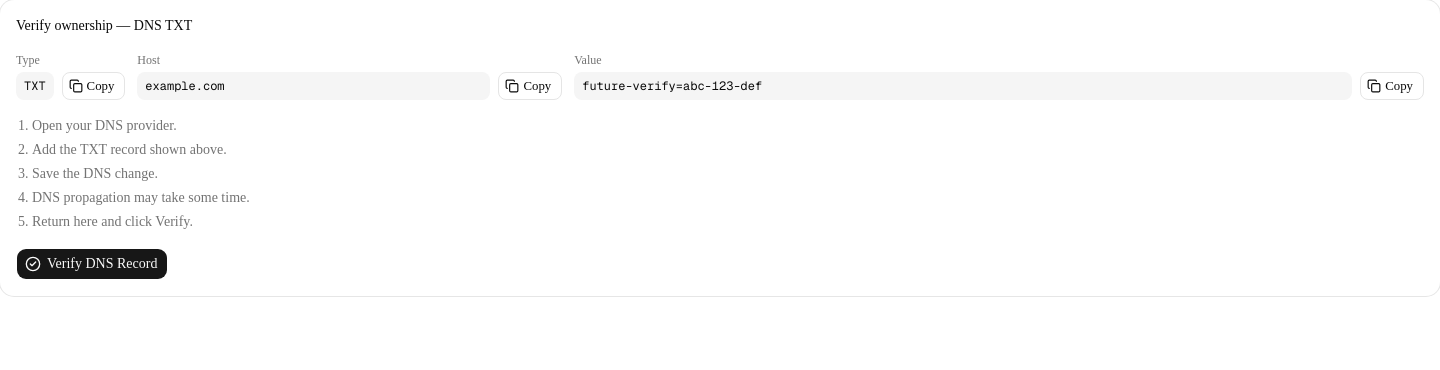
Test: VerificationPanel — DNS TXT › renders a failed check safely — the backend detail message, not a raw exception
Click the button "Verify DNS Record" at (92, 264), box [16, 248, 168, 280]
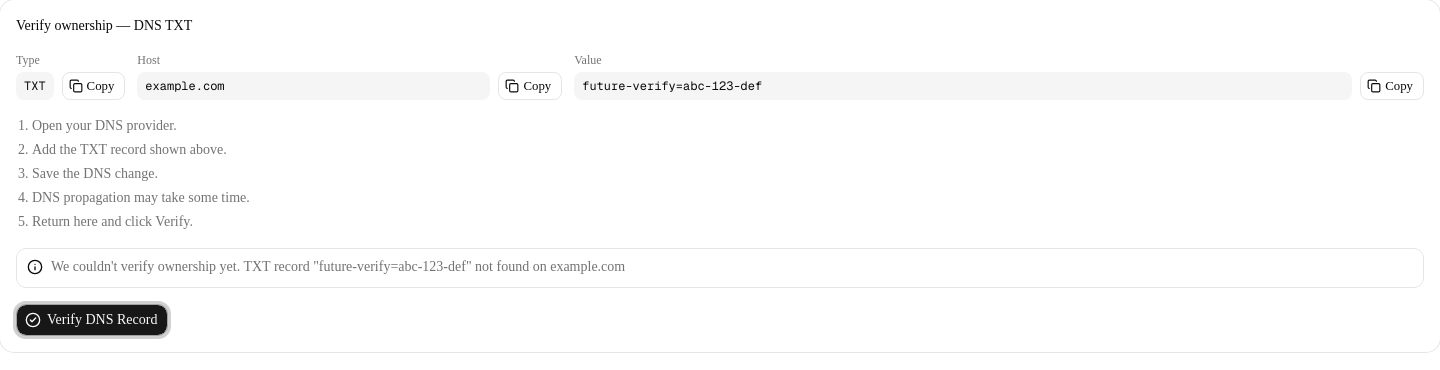
Check: the text "We couldn't verify ownership yet" is shown, box [51, 259, 243, 274]
Check: the text "TXT record \"future-verify=abc-123-def\" not found on example.com" is shown, box [243, 259, 625, 274]
